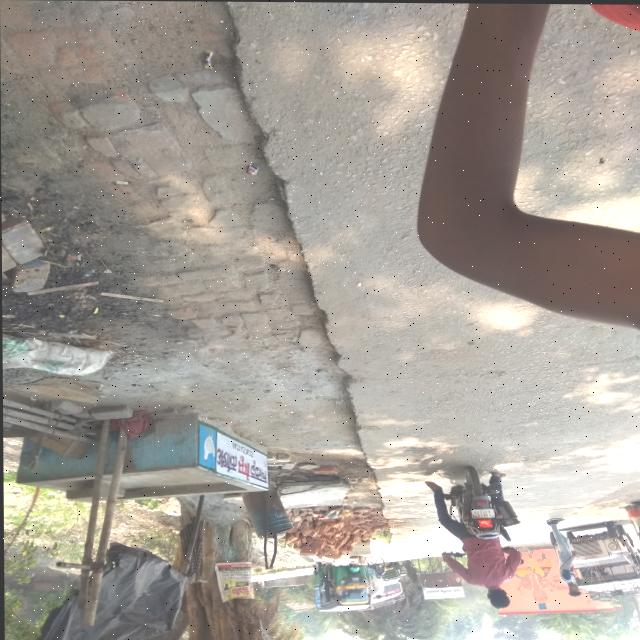plate: (470, 507, 494, 518), (570, 536, 592, 542), (352, 583, 359, 586)
